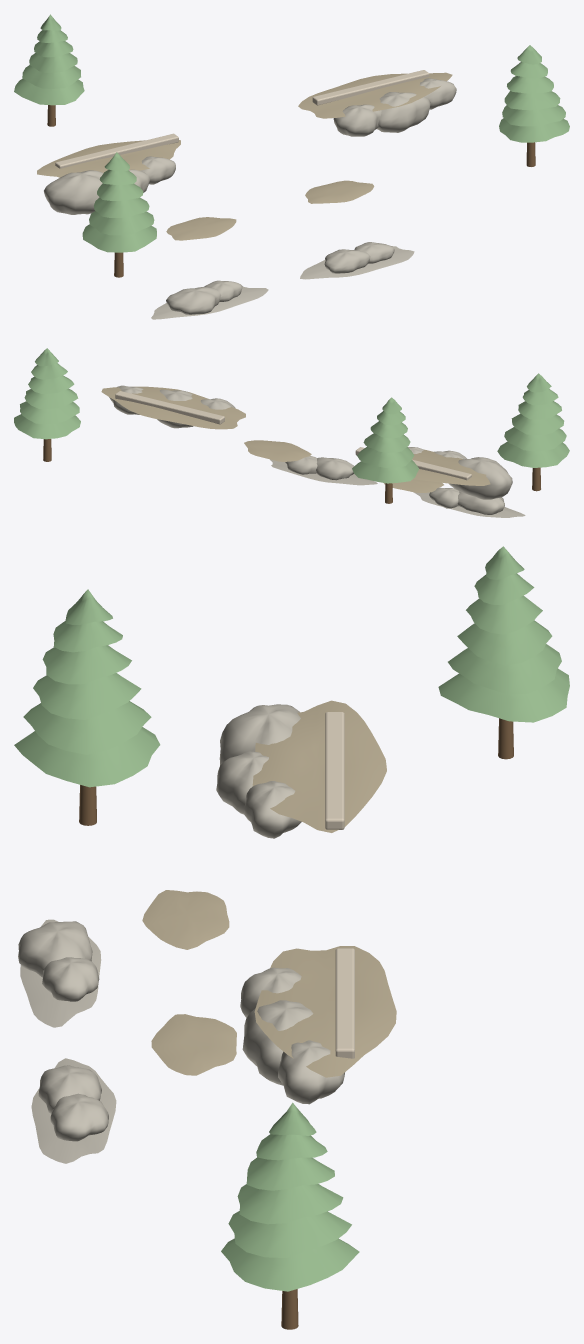
Rendered from GoldenLocalVisualShellV2.glb.
3 renders of one model, top to bottom at view 1: azimuth 30°, elevation 25°; view 2: azimuth 150°, elevation 25°; view 3: azimuth 270°, elevation 25°, orthographic. The views are drawn at different scales.
Visible parts, largest first — view 1: GoldenGround_GateEast, Rock_GoldenWest_A, GoldenGround_GateWest, Rock_GoldenEast_B, Tree_GoldenLocal_ForegroundWest_Canopy_00, ShoreRock_GoldenWest_A, Tree_GoldenLocal_WestGate_Canopy_00, Rock_GoldenEast_A, GoldenGround_BridgeWestShoulder, GoldenGround_BridgeEastShoulder, Tree_GoldenLocal_BridgeEast_Canopy_00, Tree_GoldenLocal_ForegroundWest_Canopy_01 (+19 smaller); view 2: GoldenGround_GateEast, Rock_GoldenWest_A, GoldenGround_GateWest, Tree_GoldenLocal_ForegroundWest_Canopy_00, Tree_GoldenLocal_WestGate_Canopy_00, GoldenGround_BridgeEastShoulder, Tree_GoldenLocal_BridgeEast_Canopy_00, Tree_GoldenLocal_ForegroundWest_Canopy_01, GateFoundationContact_GoldenEast, Tree_GoldenLocal_BridgeEast_Canopy_01, Tree_GoldenLocal_WestGate_Canopy_01, Tree_GoldenLocal_ForegroundWest_Canopy_02 (+21 smaller); view 3: GoldenGround_GateEast, GoldenGround_GateWest, Tree_GoldenLocal_ForegroundWest_Canopy_00, Tree_GoldenLocal_BridgeEast_Canopy_00, GoldenGround_BridgeEastShoulder, Tree_GoldenLocal_ForegroundWest_Canopy_01, GoldenGround_BridgeWestShoulder, Tree_GoldenLocal_WestGate_Canopy_00, Tree_GoldenLocal_BridgeEast_Canopy_01, Tree_GoldenLocal_ForegroundWest_Canopy_02, Tree_GoldenLocal_WestGate_Canopy_01, Tree_GoldenLocal_BridgeEast_Canopy_02 (+22 smaller).
Boxes of the visible parts, x1,y1,x2,y2 form: GoldenGround_GateEast: (298,72,452,118); Rock_GoldenWest_A: (44,170,103,214); GoldenGround_GateWest: (37,140,180,177); Rock_GoldenEast_B: (377,92,430,132); Tree_GoldenLocal_ForegroundWest_Canopy_00: (82,224,156,252); ShoreRock_GoldenWest_A: (166,287,220,314); Tree_GoldenLocal_WestGate_Canopy_00: (14,78,84,105); Rock_GoldenEast_A: (333,104,381,136); GoldenGround_BridgeWestShoulder: (166,217,236,240); GoldenGround_BridgeEastShoulder: (305,180,374,203); Tree_GoldenLocal_BridgeEast_Canopy_00: (499,118,569,142); Tree_GoldenLocal_ForegroundWest_Canopy_01: (89,211,154,235); GoldenGround_GateEast: (101,386,245,429); Rock_GoldenWest_A: (449,457,512,499); GoldenGround_GateWest: (412,449,490,485); Tree_GoldenLocal_ForegroundWest_Canopy_00: (497,441,569,467); Tree_GoldenLocal_WestGate_Canopy_00: (352,460,418,483); GoldenGround_BridgeEastShoulder: (244,440,311,461); Tree_GoldenLocal_BridgeEast_Canopy_00: (14,414,80,439); Tree_GoldenLocal_ForegroundWest_Canopy_01: (504,427,566,451); GateFoundationContact_GoldenEast: (115,391,224,424); Tree_GoldenLocal_BridgeEast_Canopy_01: (20,401,79,423); Tree_GoldenLocal_WestGate_Canopy_01: (357,447,414,467); Tree_GoldenLocal_ForegroundWest_Canopy_02: (511,413,564,435); GoldenGround_GateEast: (254,946,396,1077); GoldenGround_GateWest: (252,700,386,832); Tree_GoldenLocal_ForegroundWest_Canopy_00: (14,727,160,787); Tree_GoldenLocal_BridgeEast_Canopy_00: (221,1238,359,1291); GoldenGround_BridgeEastShoulder: (151,1014,236,1075); Tree_GoldenLocal_ForegroundWest_Canopy_01: (23,701,151,754); GoldenGround_BridgeWestShoulder: (142,890,229,949); Tree_GoldenLocal_WestGate_Canopy_00: (438,668,569,722); Tree_GoldenLocal_BridgeEast_Canopy_01: (228,1211,351,1257); Tree_GoldenLocal_ForegroundWest_Canopy_02: (33,673,141,719); Tree_GoldenLocal_WestGate_Canopy_01: (448,644,561,694); Tree_GoldenLocal_BridgeEast_Canopy_02: (237,1184,343,1224).
Size of the model in its own units: 38.71 by 15.04 by 18.84.
